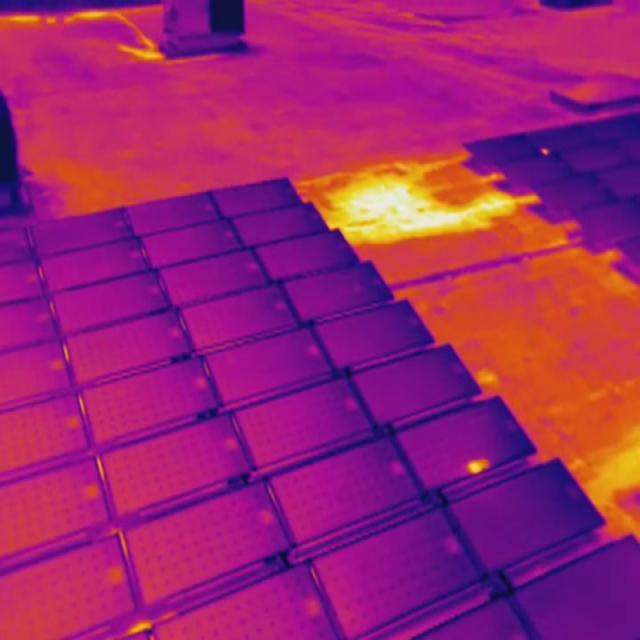Orange-Spots: (467, 457, 491, 476), (541, 148, 549, 156)
